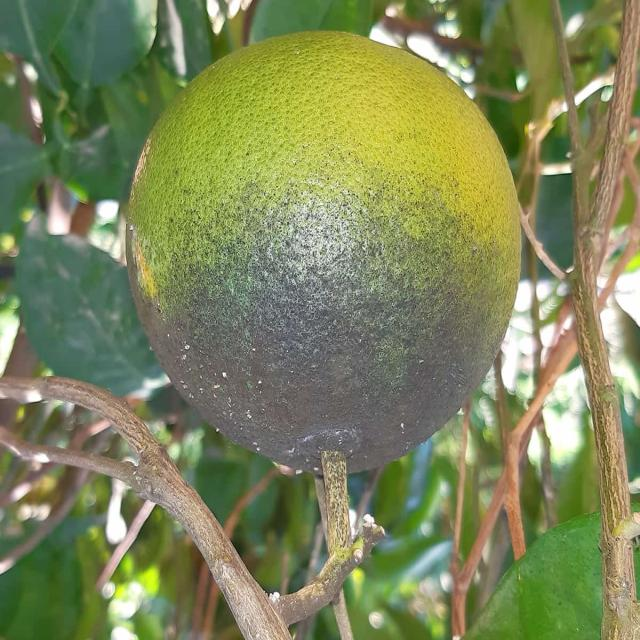Sooty Mold: (123, 29, 523, 476)
